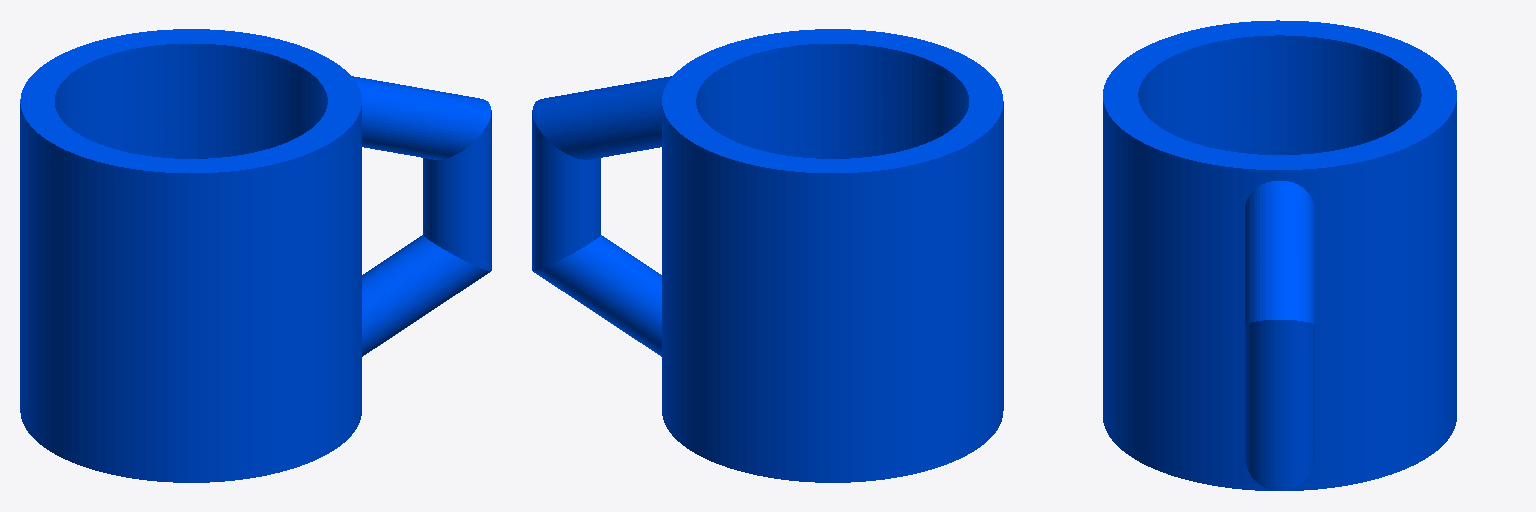
robot.urdf — mug:
<robot name="mug">
  <link name="mug_body_link">
    <inertial>
      <origin xyz="8.13E-03 3.27E-07 -7.84E-03" rpy="0 0 0"/>
      <mass value="4.09E-01"/>
      <inertia ixx="6.9361E-04" ixy="2.7599E-07" ixz="2.6047E-05" iyy="9.1656E-04" iyz="-1.9292E-09" izz="8.6403E-04"/>
    </inertial>
    <visual>
      <origin xyz="0 0 0" rpy="0 0 0"/>
      <geometry>
        <mesh filename="mug_visual.obj" scale="0.9 0.9 0.9"/>
      </geometry>
      <material name="">
        <color rgba="0 0.38 1 1"/>
      </material>
    </visual>

    <collision>
      <origin rpy="0 0 0" xyz="0 0 0"/>
      <geometry>
        <cylinder length="0.09" radius="0.0405"/>
      </geometry>
    </collision>
    <collision>
      <origin rpy="0 -1.071 0" xyz="0.063 0 0.0252"/>
      <geometry>
        <cylinder length="0.0486" radius="0.009"/>
      </geometry>
    </collision>
    <collision>
      <origin rpy="0 0 0" xyz="0.081 0 0"/>
      <geometry>
        <cylinder length="0.0486" radius="0.009"/>
      </geometry>
    </collision>
    <collision>
      <origin rpy="0 1.071 0" xyz="0.063 0 -0.0252"/>
      <geometry>
        <cylinder length="0.0486" radius="0.009"/>
      </geometry>
    </collision>
  </link>
</robot>

--- Render facts (derived) ---
Views: 3 orthographic renders of the robot side by side, from view 1: azimuth 30°, elevation 25°; view 2: azimuth 150°, elevation 25°; view 3: azimuth 270°, elevation 25°.
Model mug with 1 links and 0 joints (none), rooted at mug_body_link, posed every joint at zero.
Visible links, largest first — view 1: mug_body_link; view 2: mug_body_link; view 3: mug_body_link.
Boxes of the visible links, left/top/right/bottom form: mug_body_link: left=20, top=29, right=491, bottom=482; mug_body_link: left=532, top=29, right=1003, bottom=482; mug_body_link: left=1103, top=20, right=1456, bottom=490.
Bounding box of the posed robot: 0.135 × 0.09 × 0.09 m (x, y, z).
1 mesh visuals loaded from 1 distinct referenced files (1 OBJ).